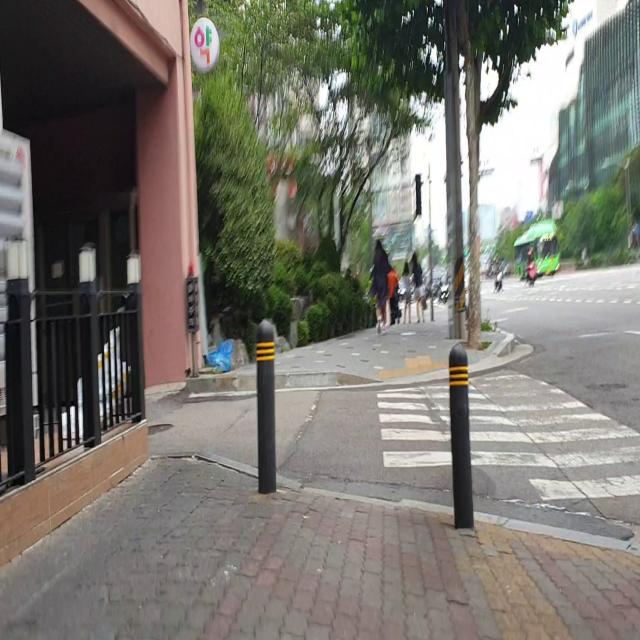횡단보도: (374, 366, 640, 507)
